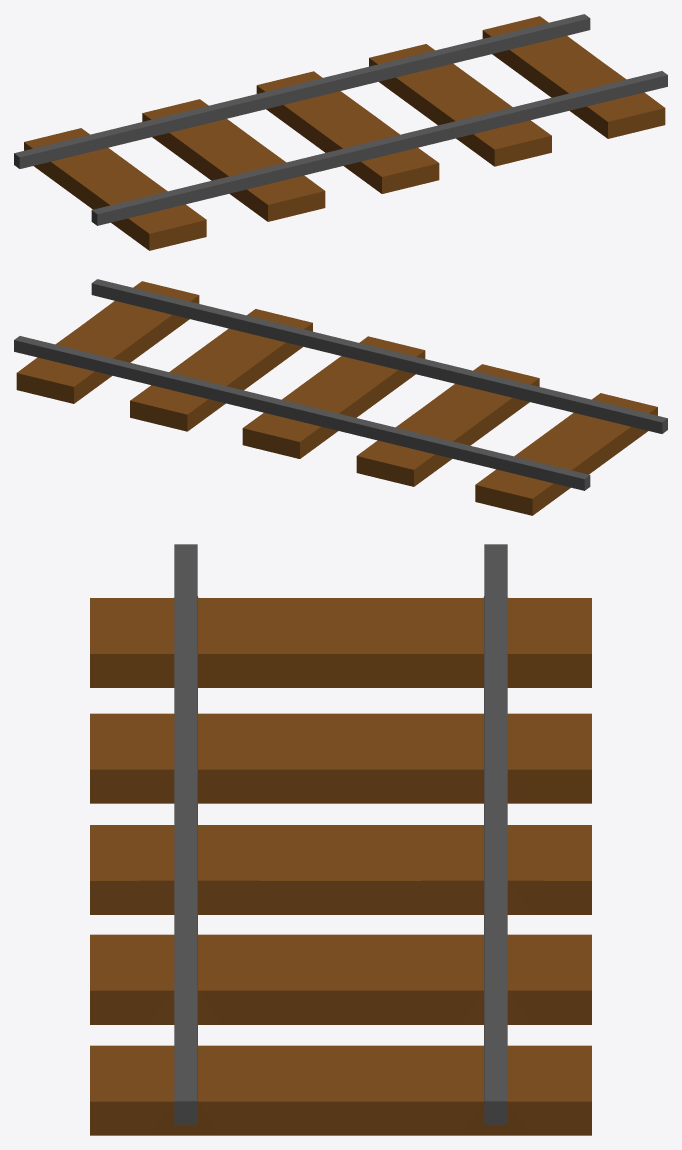
Rendered from Track.fbx.
The picture shows the model from 3 angles, top to bottom: view 1: azimuth 30°, elevation 25°; view 2: azimuth 150°, elevation 25°; view 3: azimuth 270°, elevation 25°; orthographic projection. The views are drawn at different scales.
Parts seen in each view (by area): view 1: Track; view 2: Track; view 3: Track.
Part boxes in pixels (<box>): Track: <box>14,14,667,250</box>; Track: <box>14,279,667,515</box>; Track: <box>90,544,591,1135</box>.
Size of the model in its own units: 8.83 by 0.4255 by 3.36.
